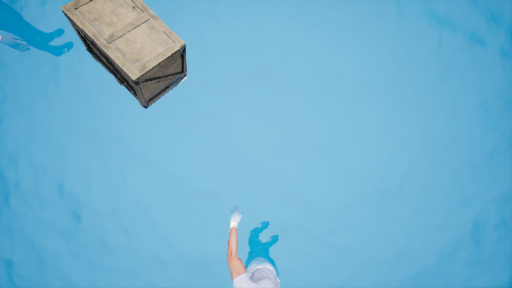person: (224, 209, 288, 288)
